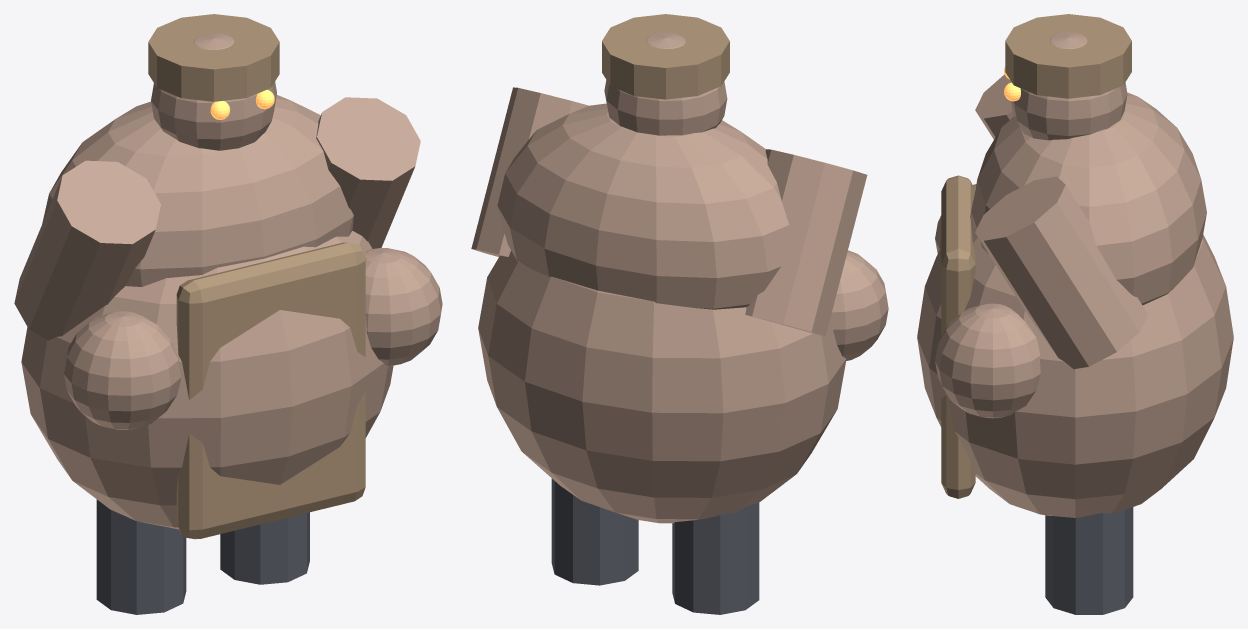
Rendered from boss.glb.
The picture shows the model from 3 angles, left to right: view 1: azimuth 30°, elevation 25°; view 2: azimuth 150°, elevation 25°; view 3: azimuth 270°, elevation 25°; orthographic projection. The views are drawn at different scales.
Visible parts, largest first — view 1: boss; view 2: boss; view 3: boss.
Part boxes in pixels (x1,y1,x2,y2): boss: [14, 14, 442, 614]; boss: [471, 14, 888, 614]; boss: [917, 14, 1233, 614].
Size of the model in its own units: 2.94 by 4.25 by 2.3.
